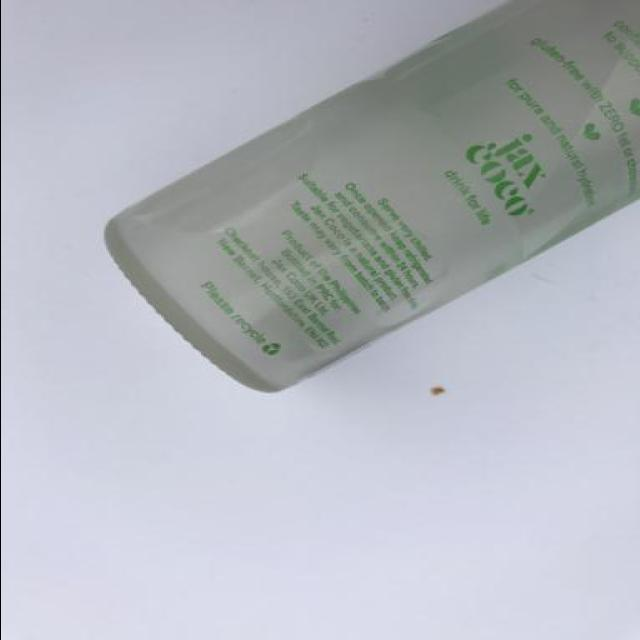glass: (70, 0, 640, 409)
